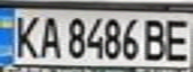4: (84, 15, 106, 60)
6: (121, 15, 145, 62)
8: (63, 13, 87, 60), (103, 15, 124, 61)
A: (36, 12, 63, 60)
B: (139, 16, 172, 62)
E: (160, 16, 193, 63)
K: (9, 11, 42, 60)
